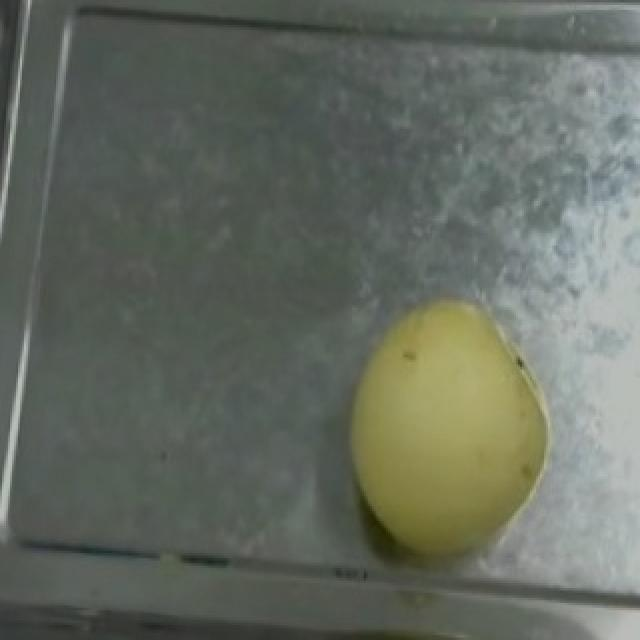Fruit: (330, 278, 570, 568)
